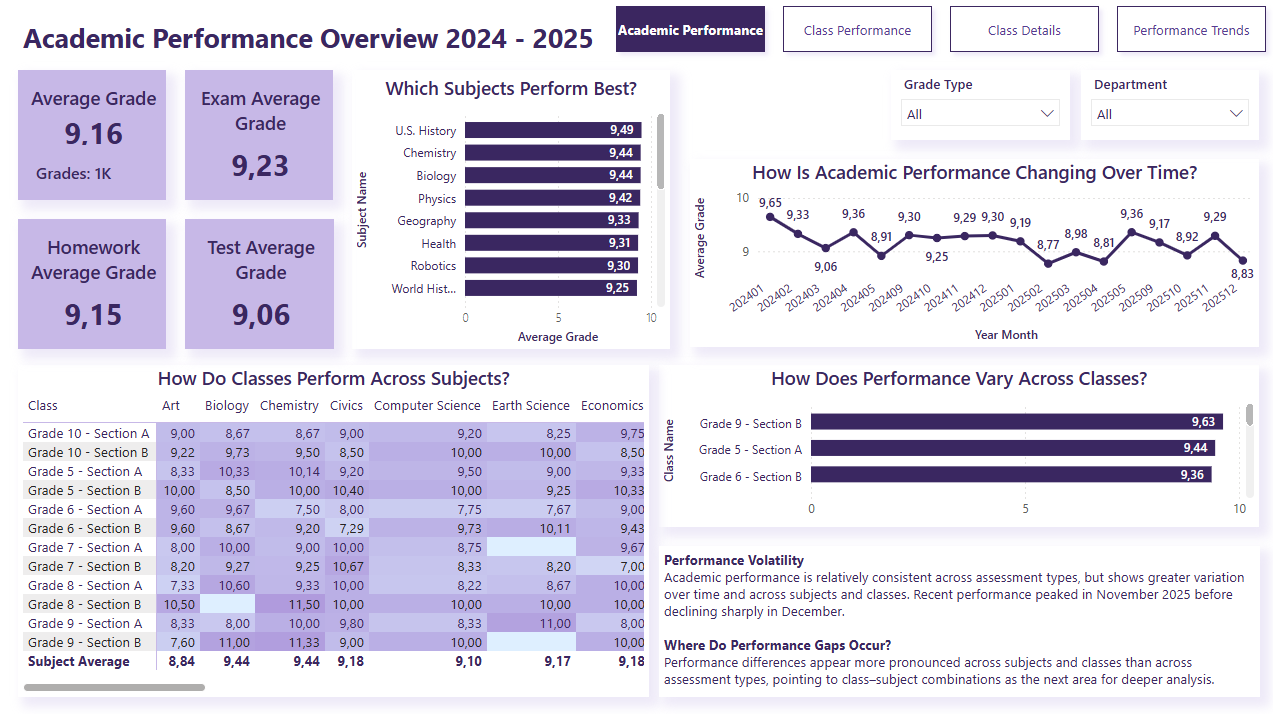

This screenshot's page, from the dashboard's own definition file:
{"tool":"powerbi","page":{"name":"Academic Performance","canvas":[1280,720],"ordinal":0},"visuals":[{"type":"barChart","title":"Which Subjects Perform Best?","fields":{"Category":["subjects.subject_name"],"Y":["Avg(fact_table_grades.grade_value)"]},"box":[356.2,72.9,317.9,278.6],"z":0},{"type":"barChart","title":"How Does Performance Vary Across Classes?","fields":{"Category":["classes.class_name"],"Y":["Avg(fact_table_grades.grade_value)"]},"box":[662.9,368.4,600.3,161.8],"z":1000},{"type":"lineChart","title":"How Is Academic Performance Changing Over Time?","fields":{"Y":["Avg(fact_table_grades.grade_value)"],"Category":["dim_Date.YearMonth Hierarchy.YearMonth"]},"box":[693.8,161.8,569.4,187.9],"z":2000},{"type":"pivotTable","title":"How Do Classes Perform Across Subjects?","fields":{"Rows":["classes.class_name"],"Columns":["subjects.subject_name"],"Values":["Avg(fact_table_grades.grade_value)"]},"box":[21.5,368.4,631.1,331.9],"z":3000},{"type":"textbox","box":[21.6,17.3,582.2,46.6],"z":4000},{"type":"slicer","fields":{"Values":["fact_table_grades.grade_type"]},"box":[894.8,72.9,179,70],"z":5000},{"type":"slicer","fields":{"Values":["subjects.department_hint"]},"box":[1084.5,72.9,178.6,70.1],"z":7000},{"type":"textbox","box":[663.3,548.6,600.3,151.8],"z":8000},{"type":"cardVisual","title":"Average Grade","fields":{"Data":["_Measures.Average Grade"]},"box":[21.6,73.3,148.4,129.4],"z":9000},{"type":"cardVisual","title":"Exam Average Grade","fields":{"Data":["_Measures.Exam Average Grade Measure"]},"box":[188.8,72.9,148.7,130],"z":10000},{"type":"cardVisual","title":"Homework Average Grade","fields":{"Data":["_Measures.Homework Average Grade Measure"]},"box":[21.5,221.6,148.7,130],"z":11000},{"type":"cardVisual","title":"Test Average Grade","fields":{"Data":["_Measures.Test Average Grade Measure"]},"box":[188.9,221.6,148.7,130],"z":12000},{"type":"pageNavigator","box":[610.7,0,669.3,63.8],"z":13000}]}

Visuals, with their boxes in screenshot pixels (x1, y1, x2, y2), scaled from the page's 1280x720 canvas onto the 1273x714 screenshot:
"Which Subjects Perform Best?" barChart: [354, 72, 670, 349]
"How Does Performance Vary Across Classes?" barChart: [659, 365, 1256, 526]
"How Is Academic Performance Changing Over Time?" lineChart: [690, 160, 1256, 347]
"How Do Classes Perform Across Subjects?" pivotTable: [21, 365, 649, 694]
textbox: [21, 17, 600, 63]
slicer - fact_table_grades.grade_type: [890, 72, 1068, 142]
slicer - subjects.department_hint: [1079, 72, 1256, 142]
textbox: [660, 544, 1257, 695]
"Average Grade" cardVisual: [21, 73, 169, 201]
"Exam Average Grade" cardVisual: [188, 72, 336, 201]
"Homework Average Grade" cardVisual: [21, 220, 169, 349]
"Test Average Grade" cardVisual: [188, 220, 336, 349]
pageNavigator: [607, 0, 1272, 63]
